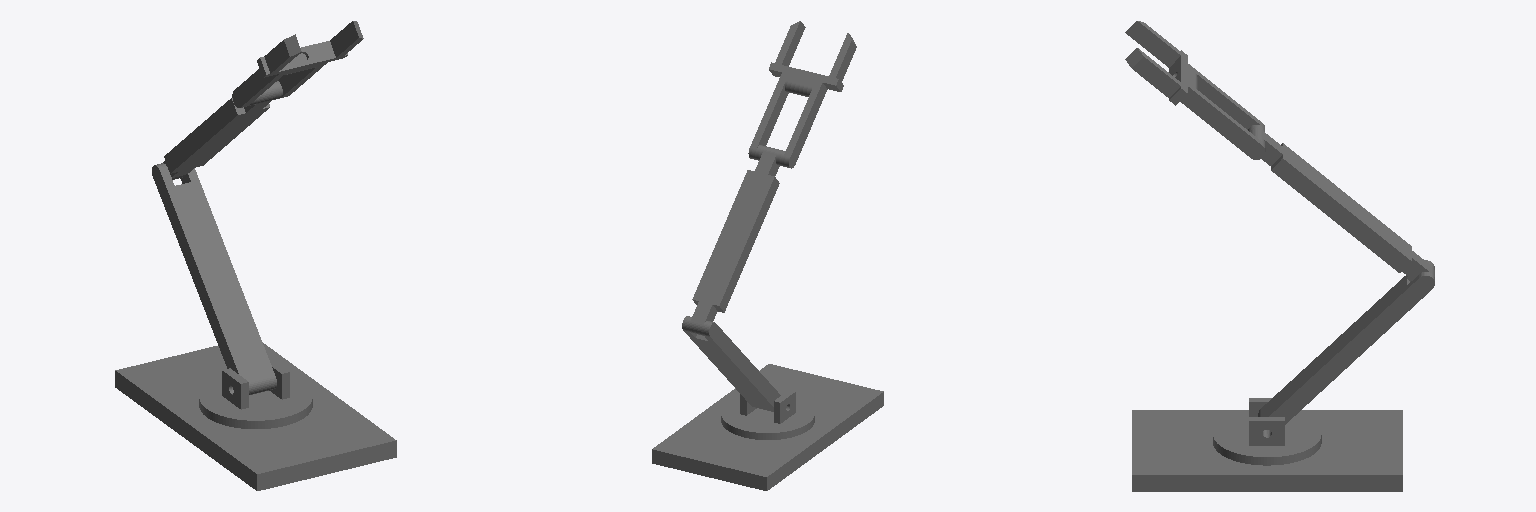
URDF robot description (aurora_arm):
<?xml version="1.0"?>
<robot name="aurora_arm">
    <material name="gray">
        <color rgba ="0.5 0.5 0.5 1.0"/>
    </material>

    <link name="base_link">
        <inertial>
            <origin rpy="0 0 0" xyz="0 0 0"/>
            <mass value="100.0"/>
            <inertia ixx="10.0" ixy="0.0" ixz="0.0" iyy="10.0" iyz="0.0" izz="10.0"/>
        </inertial>
        <collision>
            <geometry>
                <box size="0.2 0.2 0.1"/>
            </geometry>
            <origin rpy="0 0 0" xyz="0 0 0.05"/>
        </collision>
    </link>

    <link name = "state_link">
        <visual>
            <origin xyz="0 0 0"/>
            <geometry>
                <mesh filename="package://aurora_arm_v2/meshes/base_link.stl" scale="0.001 0.001 0.001"/>
            </geometry>
            <material name="gray"/>
        </visual>
        <collision>
            <origin xyz="0 0 0"/>
            <geometry>
                <mesh filename="package://aurora_arm_v2/meshes/base_link.stl" scale="0.001 0.001 0.001"/>
            </geometry>
        </collision>
    </link>

    <link name = "base_spin_link">
        <visual>
            <origin xyz="-0.0 -0.03 -0.0"/>
            <geometry>
                <mesh filename="package://aurora_arm_v2/meshes/arm1_link_1.stl" scale="0.001 0.001 0.001"/>
            </geometry>
            <material name="gray"/>
        </visual>
        <collision>
            <origin xyz="-0.0 -0.03 -0.0"/>
            <geometry>
                <mesh filename="package://aurora_arm_v2/meshes/arm1_link_1.stl" scale="0.001 0.001 0.001"/>
            </geometry>
        </collision>
    </link>

    <link name = "arm2_link">
        <visual>
            <origin xyz="5e-06 -0.045 0.02"/>
            <geometry>
                <mesh filename="package://aurora_arm_v2/meshes/arm2_link_1.stl" scale="0.001 0.001 0.001"/>
            </geometry>
            <material name="gray"/>
        </visual>

        <collision>
            <origin xyz="5e-06 -0.045 0.02"/>
            <geometry>
                <mesh filename="package://aurora_arm_v2/meshes/arm2_link_1.stl" scale="0.001 0.001 0.001"/>
            </geometry>
        </collision>
        
    </link>

    <link name = "arm3_link">
        <visual>
            <origin xyz="0.175348 -0.223192 -0.010046"/>
            <geometry>
                <mesh filename="package://aurora_arm_v2/meshes/arm3_link_1.stl" scale="0.001 0.001 0.001"/>
            </geometry>
            <material name="gray"/>
        </visual>

        <collision>
            <origin xyz="0.175348 -0.223192 -0.010046"/>
            <geometry>
                <mesh filename="package://aurora_arm_v2/meshes/arm3_link_1.stl" scale="0.001 0.001 0.001"/>
            </geometry>
        </collision>

    </link>

    <link name = "arm4_link">
        <visual>
            <origin xyz="-0.011997 -0.388722 0.010003"/>
            <geometry>
                <mesh filename="package://aurora_arm_v2/meshes/arm4_link_1.stl" scale="0.001 0.001 0.001"/>
            </geometry>
            <material name="gray"/>
        </visual>

        <collision>
            <origin xyz="-0.011997 -0.388722 0.010003"/>
            <geometry>
                <mesh filename="package://aurora_arm_v2/meshes/arm4_link_1.stl" scale="0.001 0.001 0.001"/>
            </geometry>
        </collision>

    </link>

    <link name = "arm5_link">
        <visual>
            <origin xyz="-0.026167 -0.502846 7e-06"/>
            <geometry>
                <mesh filename="package://aurora_arm_v2/meshes/arm5_link_1.stl" scale="0.001 0.001 0.001"/>
            </geometry>
            <material name="gray"/>
        </visual>

        <collision>
            <origin xyz="-0.026167 -0.502846 7e-06"/>
            <geometry>
                <mesh filename="package://aurora_arm_v2/meshes/arm5_link_1.stl" scale="0.001 0.001 0.001"/>
            </geometry>
        </collision>

    </link>

    <joint name="base" type="fixed">
        <parent link="base_link"/>
        <child link="state_link"/>
        <origin rpy="1.5707963267948966 0 0" xyz="0 0 0"/>
    </joint>

    <joint name ="body_spin_joint" type="revolute">
        <parent link="state_link"/>
        <child link="base_spin_link"/>
        <origin xyz="0.0 0.03 0.0" rpy="0 0 0"/>
        <axis xyz="0.0 1.0 0.0"/>
        <limit upper="-0.392699" lower="-2.748894" effort="100" velocity="100"/>
    </joint>

    <joint name ="arm1_joint" type="revolute">
        <parent link="base_spin_link"/>
        <child link="arm2_link"/>
        <origin xyz="-5e-06 0.015 -0.02" rpy="0 0 0"/>
        <axis xyz="-0.00026 -0.0 -1.0"/>
        <limit upper="1.570796" lower="-0.785398" effort="100" velocity="100"/>
    </joint>

    <joint name="arm2_joint" type="revolute">
        <parent link="arm2_link"/>
        <child link="arm3_link"/>
        <origin xyz="-0.175343 0.178192 0.030046" rpy="0 0 0"/>
        <axis xyz="-0.00026 0.0 -1.0"/>
        <limit upper="0.785398" lower="-3.141593" effort="100" velocity="100"/>
    </joint>

    <joint name="arm3_joint" type="revolute">
        <parent link="arm3_link"/>
        <child link="arm4_link"/>
        <origin xyz="0.187345 0.16553 -0.020049" rpy="0 0 0"/>
        <axis xyz="-0.00026 0.0 -1.0"/>
        <limit upper="1.570796" lower="-0.872665" effort="100" velocity="100"/>
    </joint>

    <joint name="arm4_joint" type="revolute">
        <parent link="arm4_link"/>
        <child link="arm5_link"/>
        <origin xyz="0.01417 0.114124 0.009996" rpy="0 0 0"/>
        <axis xyz="0.749398 0.662119 -0.000195"/>
        <limit upper="2.356194" lower="-2.356194" effort="100" velocity="100"/>
    </joint>    
    
</robot>

--- What the picture shows (computed from the rendered views, not written in the file) ---
The picture shows the robot from 3 angles, left to right: view 1: azimuth 30°, elevation 25°; view 2: azimuth 150°, elevation 25°; view 3: azimuth 270°, elevation 25°; orthographic projection.
Model aurora_arm with 7 links and 6 joints (5 revolute, 1 fixed), rooted at base_link, posed joints at zero except 1 at the middle of their limits (body_spin_joint = -1.57).
Visible links, largest first — view 1: state_link, arm2_link, base_spin_link, arm3_link, arm5_link, arm4_link; view 2: state_link, arm3_link, base_spin_link, arm2_link, arm4_link, arm5_link; view 3: state_link, arm2_link, arm3_link, base_spin_link, arm4_link, arm5_link.
Link boxes in pixels (x1=…): state_link: x1=115, y1=343, x2=396, y2=490; arm2_link: x1=152, y1=163, x2=276, y2=394; base_spin_link: x1=199, y1=358, x2=312, y2=428; arm3_link: x1=163, y1=86, x2=274, y2=179; arm5_link: x1=257, y1=21, x2=363, y2=77; arm4_link: x1=232, y1=53, x2=327, y2=107; state_link: x1=652, y1=364, x2=883, y2=490; arm3_link: x1=689, y1=147, x2=779, y2=335; base_spin_link: x1=721, y1=390, x2=814, y2=439; arm2_link: x1=682, y1=316, x2=780, y2=411; arm4_link: x1=748, y1=73, x2=827, y2=168; arm5_link: x1=769, y1=21, x2=856, y2=91; state_link: x1=1132, y1=410, x2=1402, y2=491; arm2_link: x1=1258, y1=260, x2=1434, y2=433; arm3_link: x1=1249, y1=128, x2=1434, y2=279; base_spin_link: x1=1213, y1=398, x2=1321, y2=465; arm4_link: x1=1180, y1=64, x2=1265, y2=159; arm5_link: x1=1125, y1=21, x2=1187, y2=105.
Bounding box of the posed robot: 0.17 × 0.3426 × 0.5187 m (x, y, z).
6 mesh visuals loaded from 6 distinct referenced files (6 binary STL).